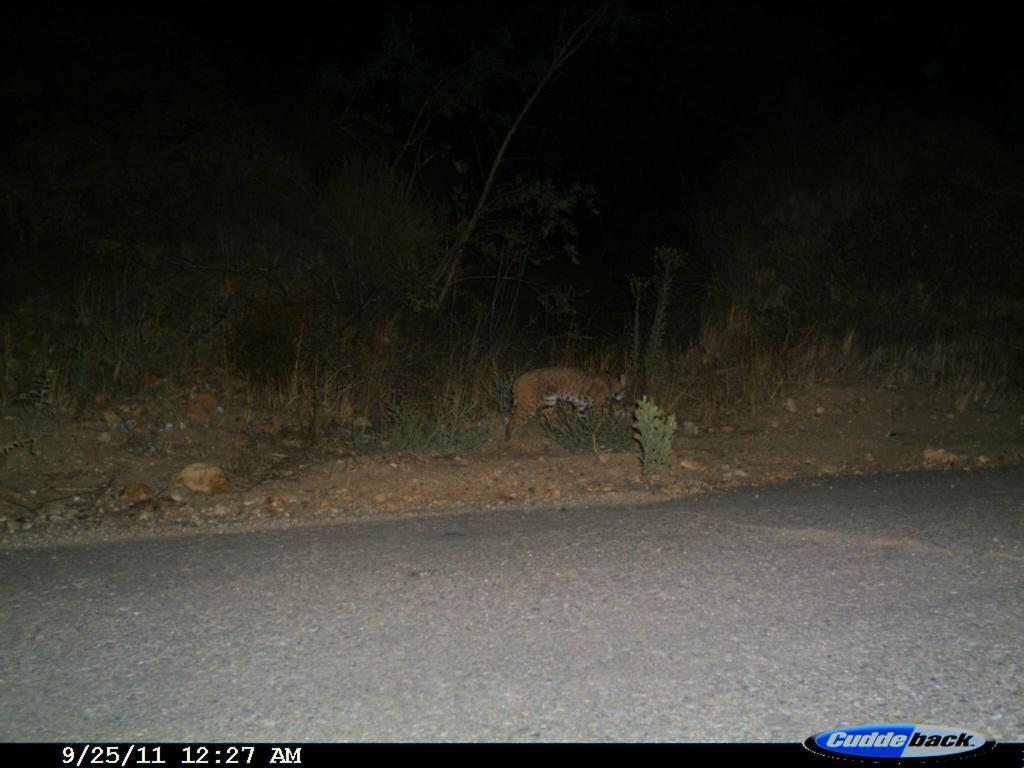bobcat: (496, 358, 641, 453)
